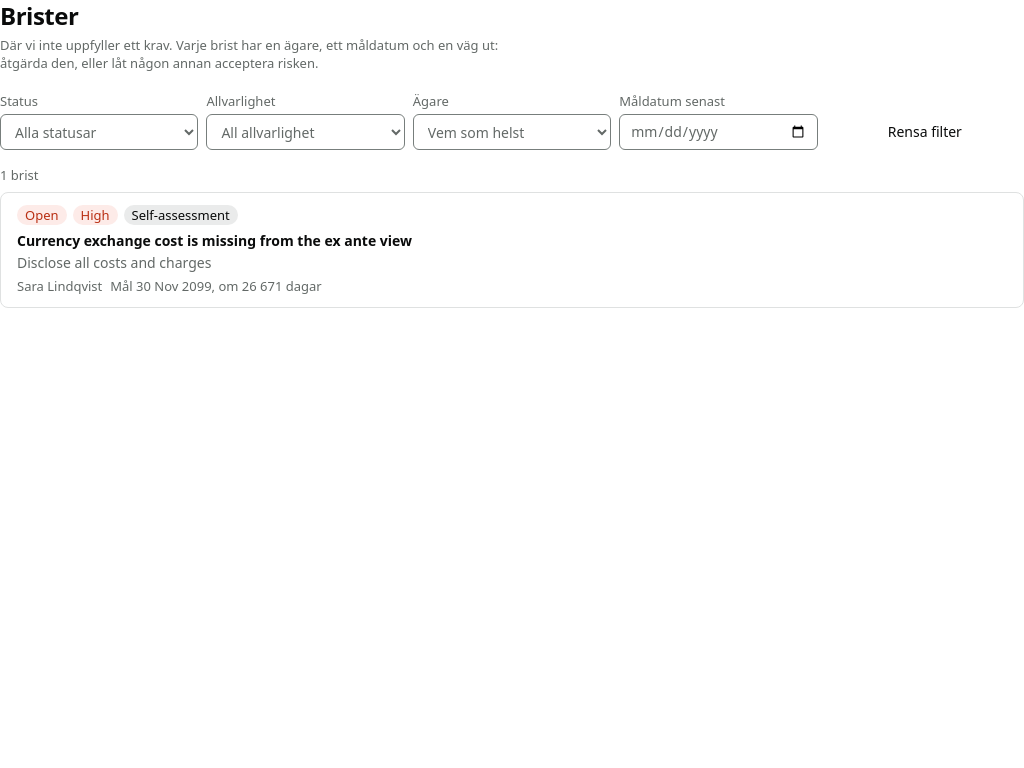
Scenario: the way out › asks to accept the risk with a reason key, showing the labels (sv)
Later steps or results of the test are not shown.
Click the button "Currency exchange cost is missing from the ex ante view" at [215, 241], box 17,231 -> 412,251
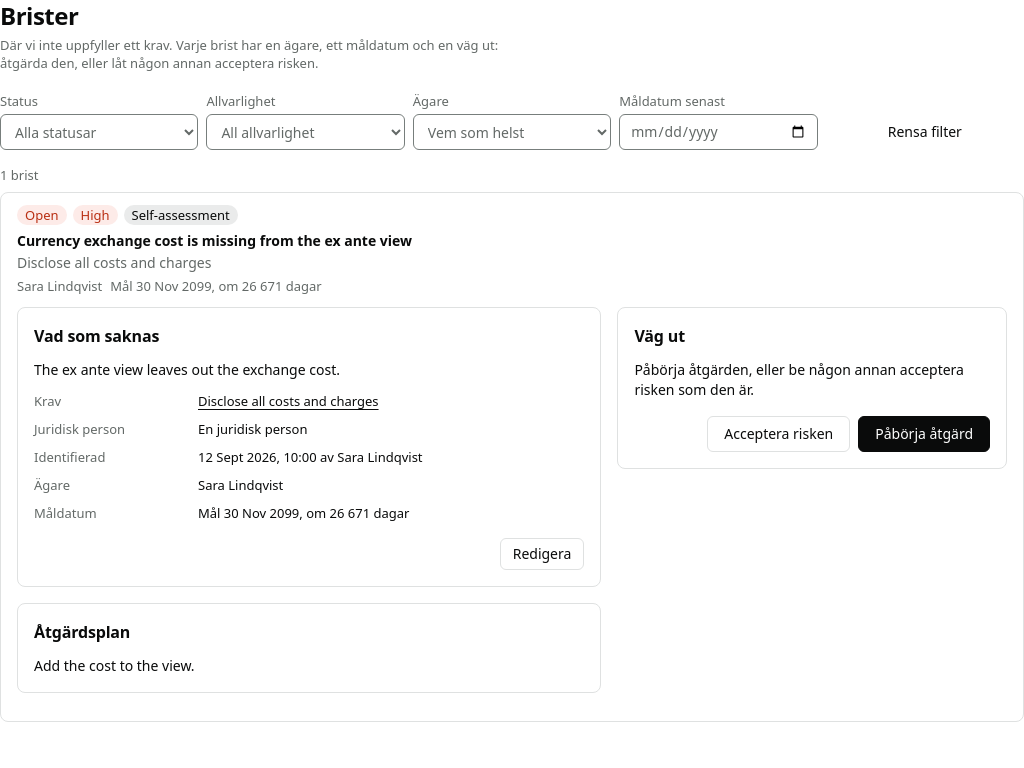
Click the button "Acceptera risken" at [779, 434], box 707,416 -> 850,452
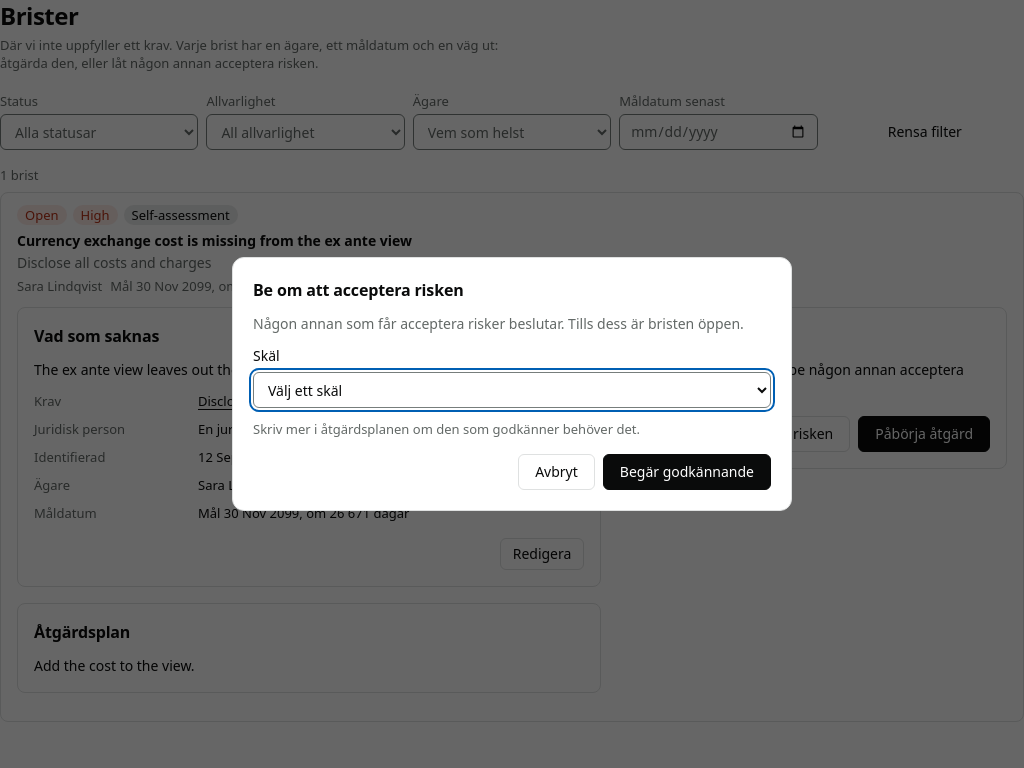
Click the button "Begär godkännande" at [687, 472], box 603,454 -> 771,490
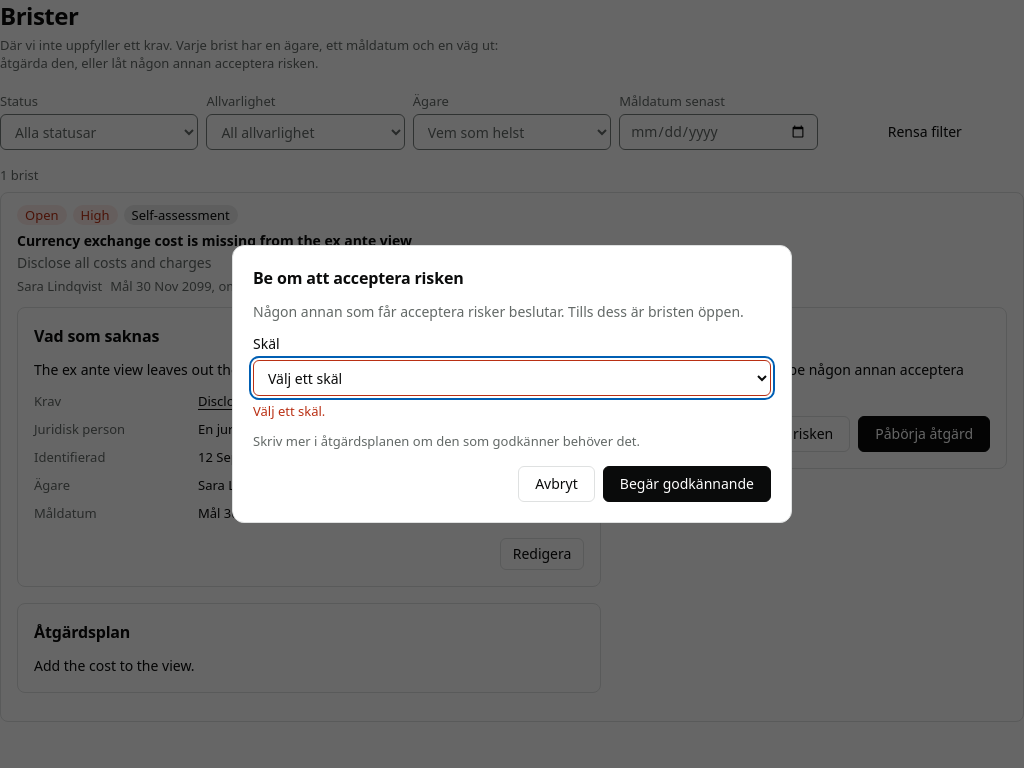
Expected: the text "Välj ett skäl." is shown, 253,402 -> 325,420
